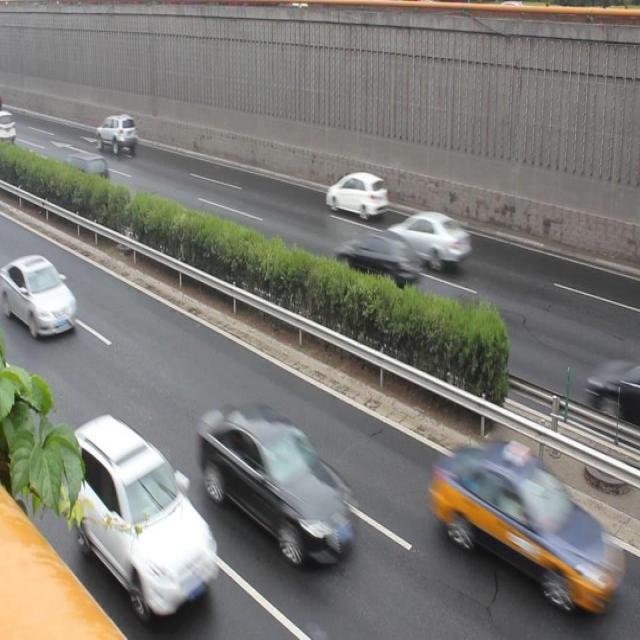car: (429, 431, 604, 612), (66, 419, 216, 605), (199, 396, 359, 568), (1, 252, 83, 342), (333, 226, 417, 294), (390, 204, 467, 269), (322, 170, 389, 222), (58, 148, 110, 196), (94, 111, 136, 157)
